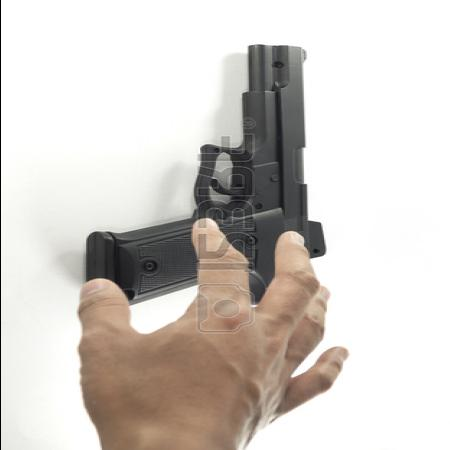Pistol: (84, 44, 328, 320)
